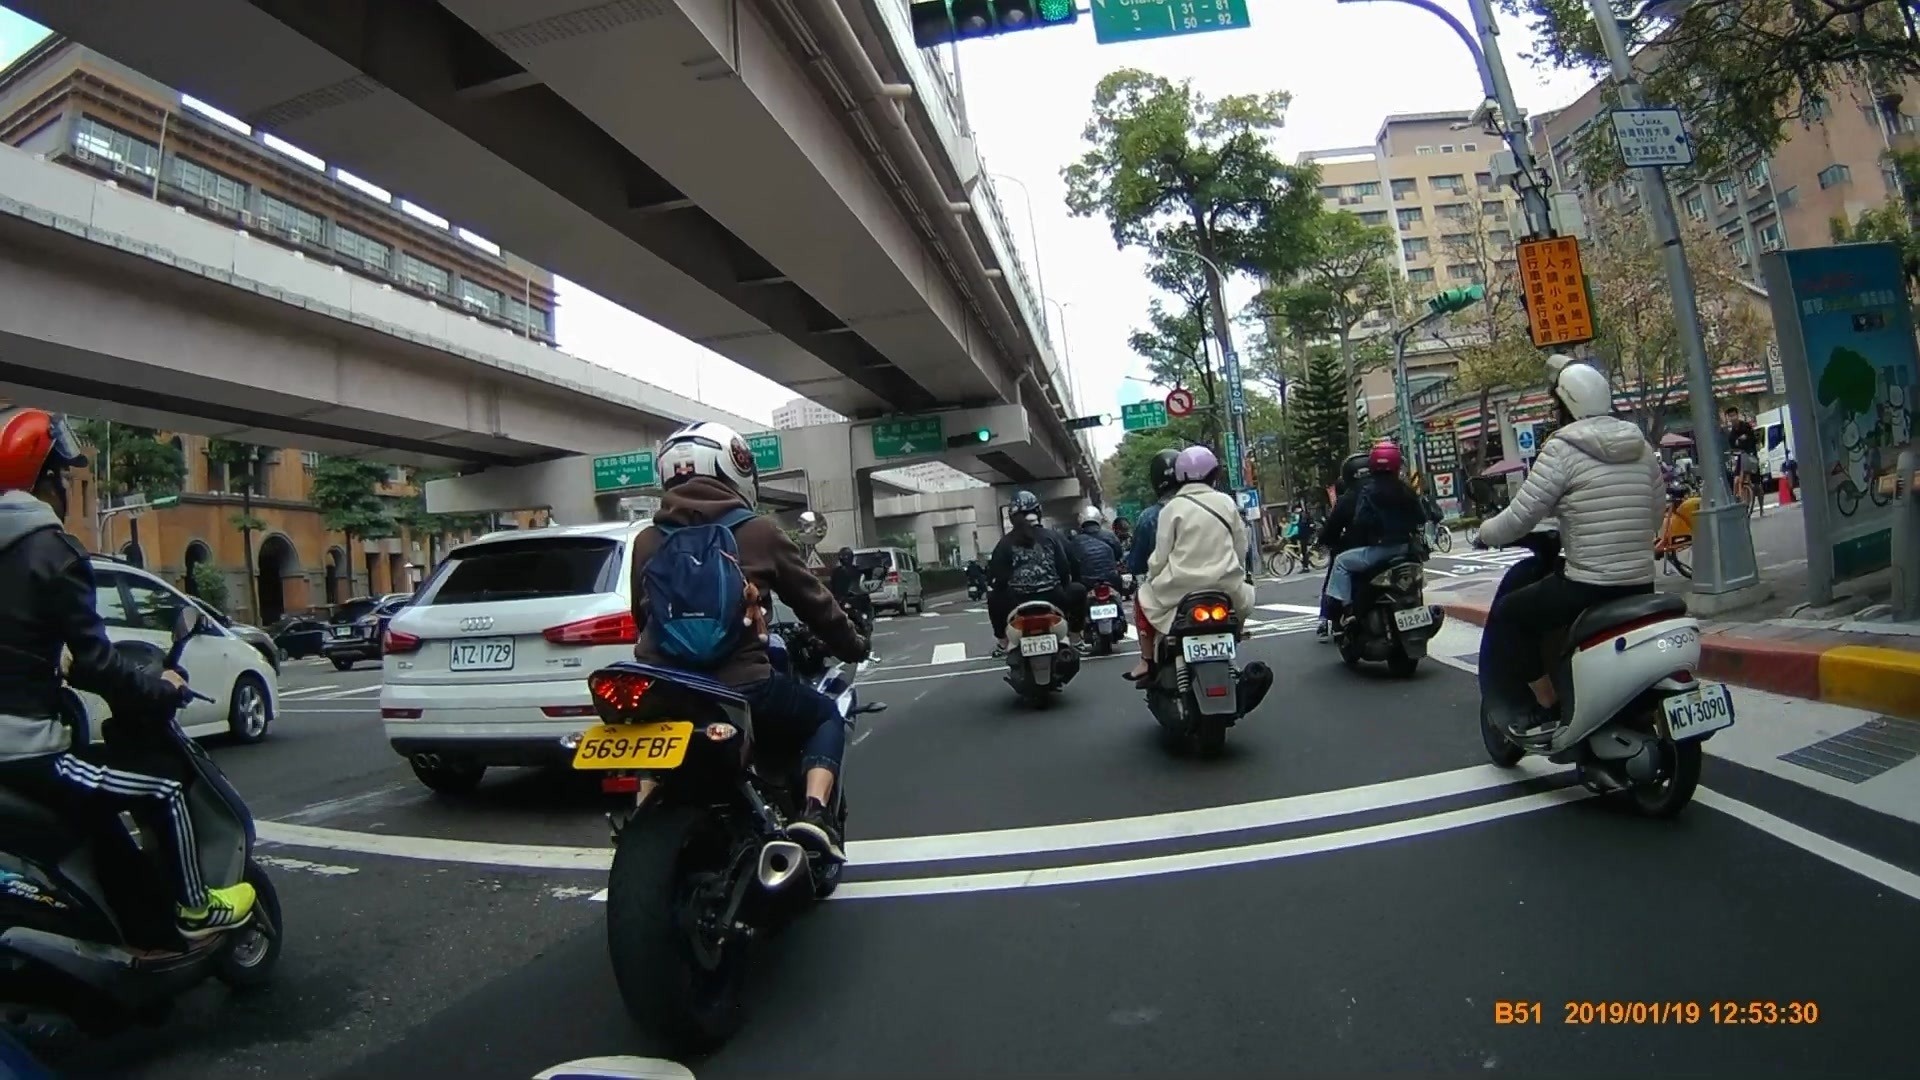License_plate: (576, 720, 690, 769), (1661, 686, 1741, 738), (1178, 634, 1242, 662)
